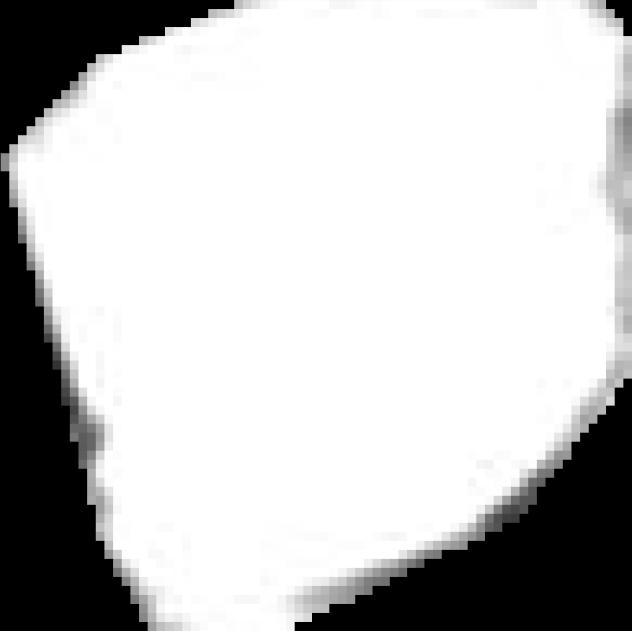tumor_good_chance: (1, 0, 632, 631)
